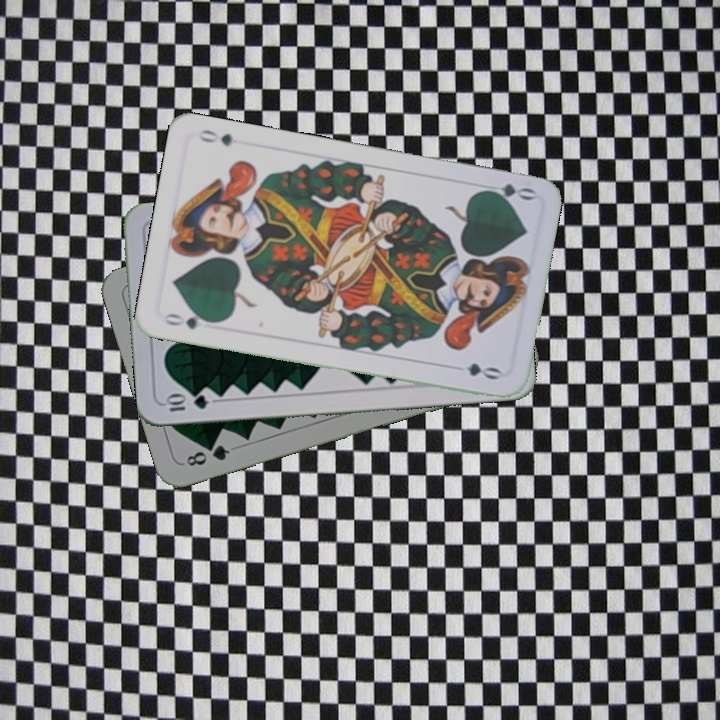G10: (161, 391, 211, 414)
G8: (182, 440, 233, 469)
GO: (477, 179, 537, 205), (160, 308, 219, 332)
